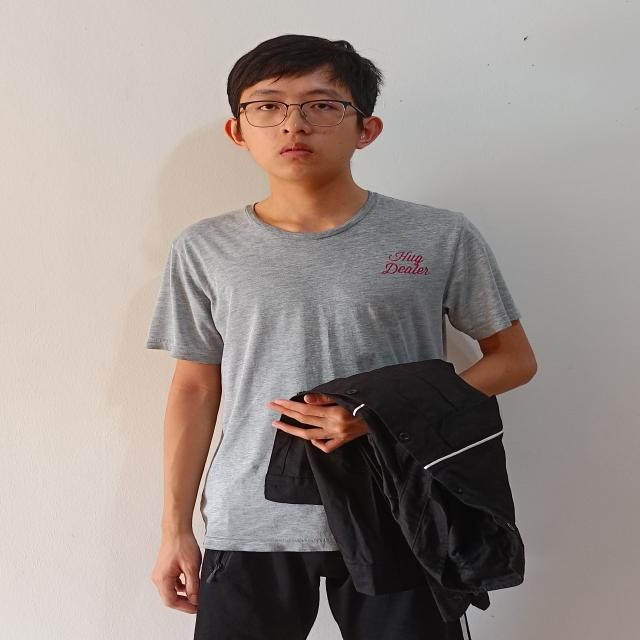person_without_labcoat: (147, 36, 536, 640)
